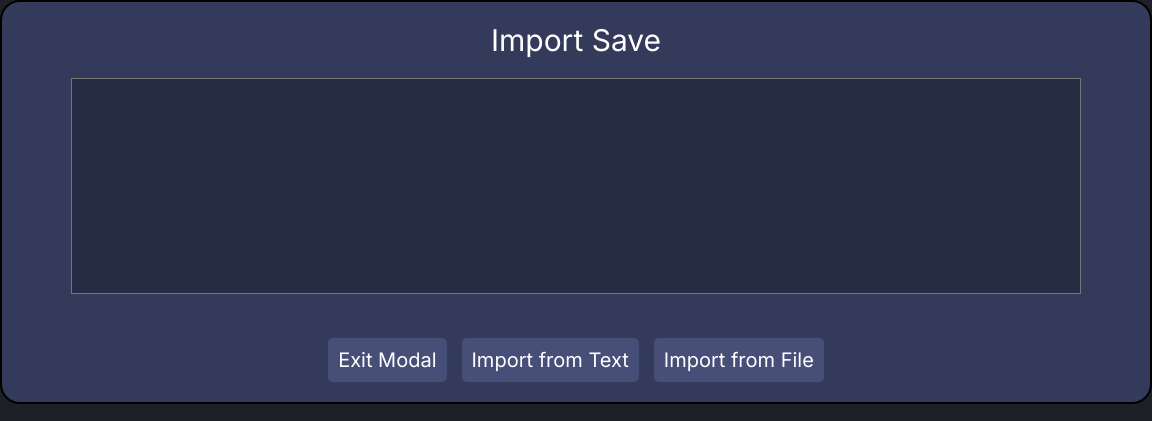
ImportSaveModal › ImportFromText button › Text is empty
Click the button with test id "import-from-text-button" at (550, 360), box [462, 338, 639, 382]
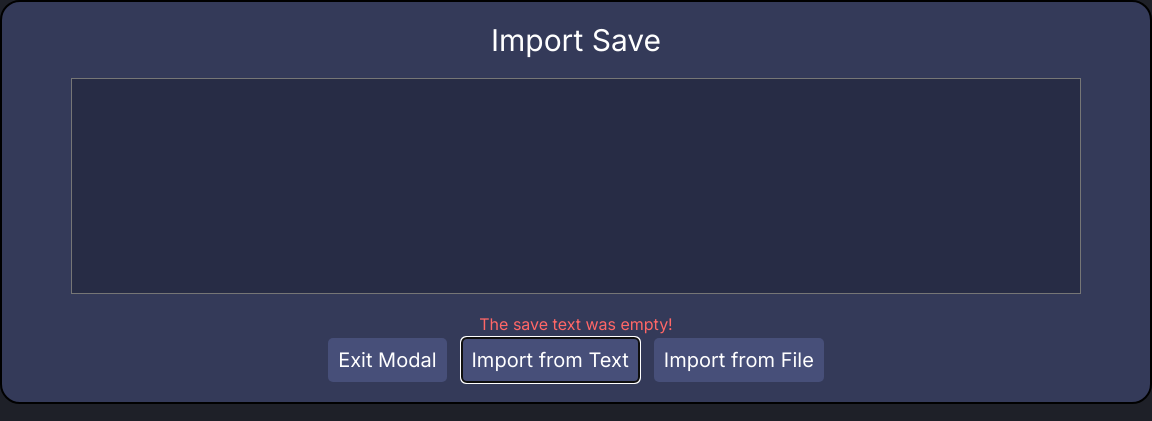
Expected: the text with test id "parse-error-text" reads "The save text was empty!", [479, 314, 673, 334]
